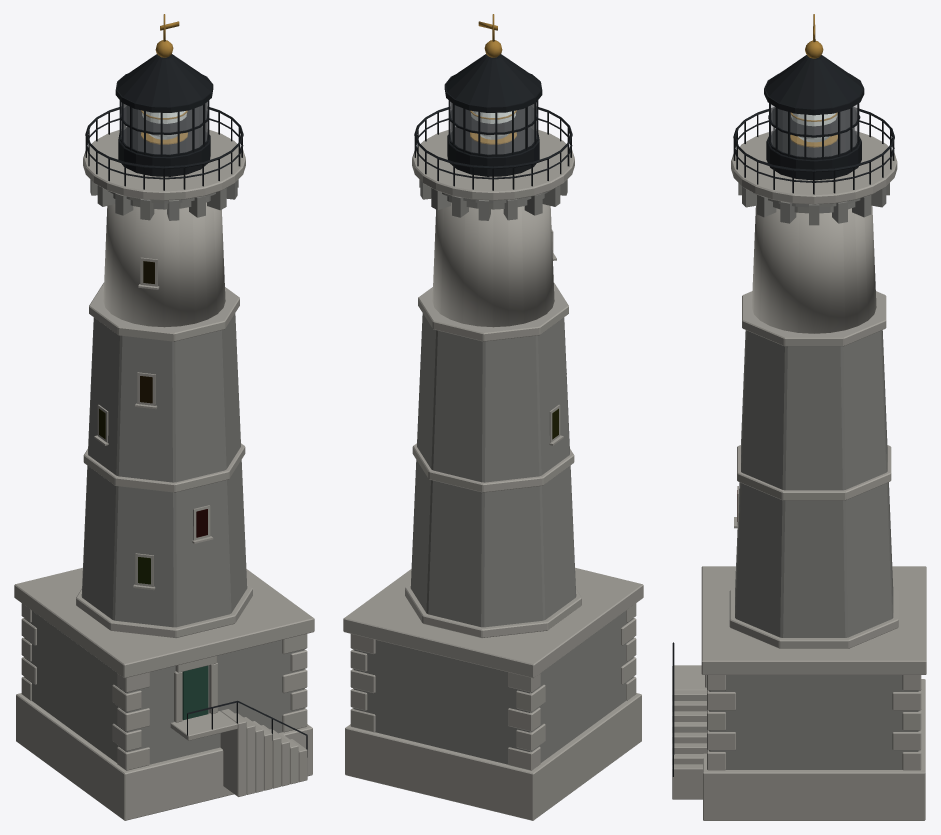
The model's file is lighthouse_pharos.glb.
The picture shows the model from 3 angles, left to right: view 1: azimuth 30°, elevation 25°; view 2: azimuth 150°, elevation 25°; view 3: azimuth 270°, elevation 25°; orthographic projection. The views are drawn at different scales.
Visible parts, largest first — view 1: pharos_shaft_oct, pharos_dressings, pharos_base, pharos_shaft_round, pharos_bands, pharos_stair, pharos_gallery, pharos_dome, pharos_astragals, pharos_lantern_glass, pharos_corbels, pharos_railing (+5 smaller); view 2: pharos_shaft_oct, pharos_dressings, pharos_base, pharos_shaft_round, pharos_bands, pharos_gallery, pharos_dome, pharos_astragals, pharos_lantern_glass, pharos_corbels, pharos_railing, pharos_lantern_base; view 3: pharos_shaft_oct, pharos_dressings, pharos_base, pharos_shaft_round, pharos_bands, pharos_gallery, pharos_stair, pharos_dome, pharos_astragals, pharos_lantern_glass, pharos_corbels, pharos_railing (+2 smaller).
Part boxes in pixels (<box>): pharos_shaft_oct: <box>81,313,247,627</box>; pharos_dressings: <box>14,567,314,820</box>; pharos_base: <box>24,611,304,764</box>; pharos_shaft_round: <box>103,202,225,327</box>; pharos_bands: <box>76,282,252,637</box>; pharos_stair: <box>170,709,307,796</box>; pharos_gallery: <box>83,130,245,200</box>; pharos_dome: <box>115,54,213,112</box>; pharos_astragals: <box>119,100,209,156</box>; pharos_lantern_glass: <box>121,102,207,154</box>; pharos_corbels: <box>90,179,238,220</box>; pharos_railing: <box>85,107,243,190</box>; pharos_shaft_oct: <box>410,313,576,627</box>; pharos_dressings: <box>343,567,643,820</box>; pharos_base: <box>353,611,633,764</box>; pharos_shaft_round: <box>432,202,554,327</box>; pharos_bands: <box>405,282,581,637</box>; pharos_gallery: <box>412,130,574,200</box>; pharos_dome: <box>444,54,542,112</box>; pharos_astragals: <box>448,100,538,156</box>; pharos_lantern_glass: <box>450,102,536,154</box>; pharos_corbels: <box>419,179,567,220</box>; pharos_railing: <box>414,107,572,190</box>; pharos_lantern_base: <box>447,133,539,176</box>; pharos_shaft_oct: <box>735,330,893,637</box>; pharos_dressings: <box>701,566,926,820</box>; pharos_base: <box>709,675,919,769</box>; pharos_shaft_round: <box>752,205,876,333</box>; pharos_bands: <box>729,291,898,648</box>; pharos_gallery: <box>731,131,897,204</box>; pharos_stair: <box>672,665,706,799</box>; pharos_dome: <box>764,55,864,115</box>; pharos_astragals: <box>768,103,860,159</box>; pharos_lantern_glass: <box>771,104,857,157</box>; pharos_corbels: <box>738,183,889,225</box>; pharos_railing: <box>733,107,894,194</box>.
Bounding box in the file's own units: 9.2 × 34.27 × 10.4.
